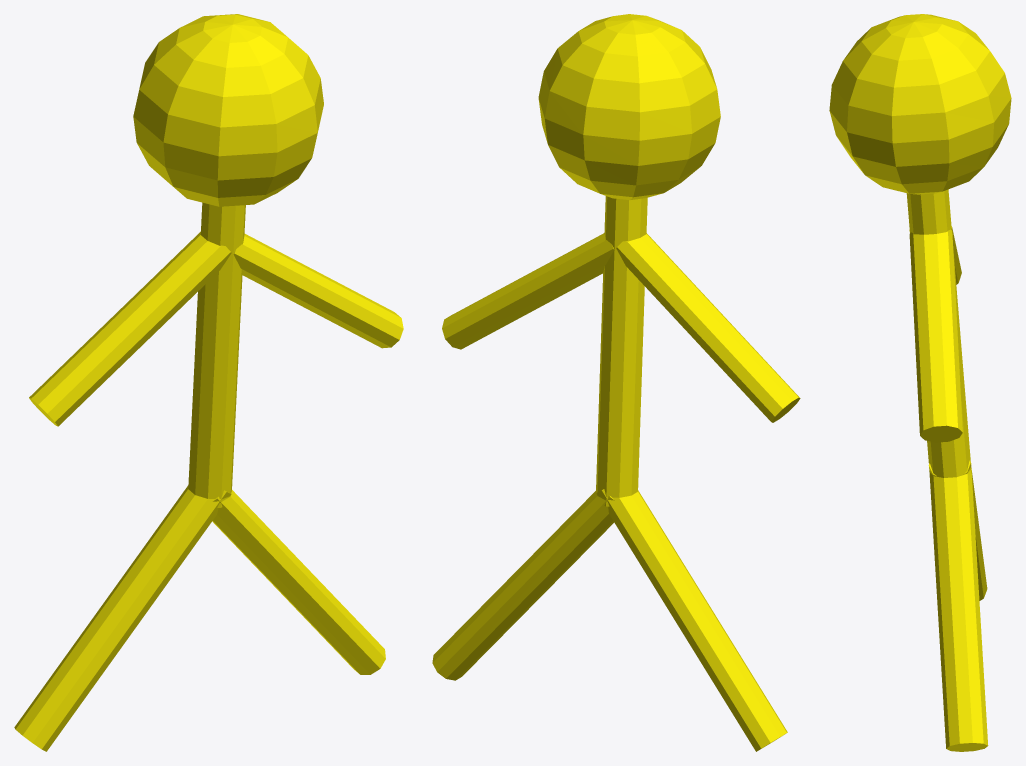
File: Stick.gltf
The picture shows the model from 3 angles, left to right: view 1: azimuth 30°, elevation 25°; view 2: azimuth 150°, elevation 25°; view 3: azimuth 270°, elevation 25°; orthographic projection. The views are drawn at different scales.
Bounding box in the file's own units: 0.2773 × 0.5118 × 0.1279.
1 material, 1 textured.
